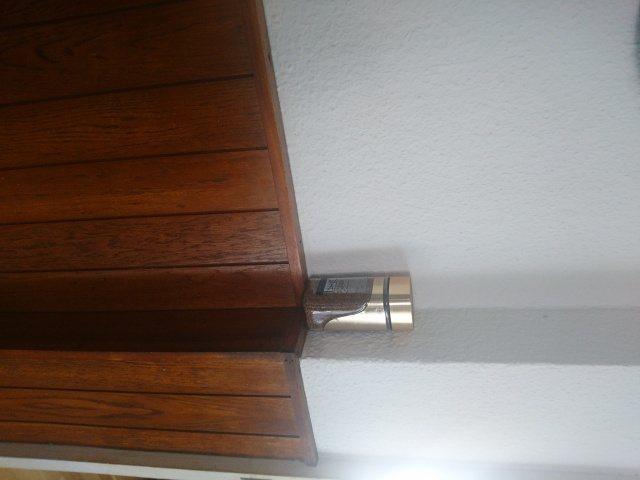Nescafe Gold 225g: (299, 272, 417, 335)
